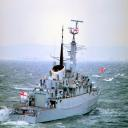Fragata: (10, 16, 104, 126)
